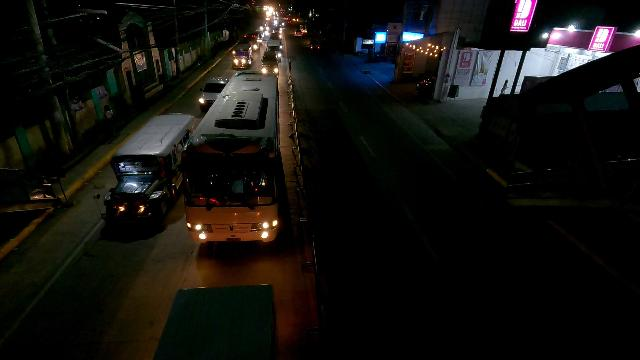bus: (183, 74, 280, 247)
car: (198, 76, 229, 110), (260, 51, 279, 73), (308, 39, 320, 52)
jeepney: (98, 111, 195, 230), (231, 44, 254, 70), (242, 32, 260, 51)
van: (265, 39, 282, 54)
